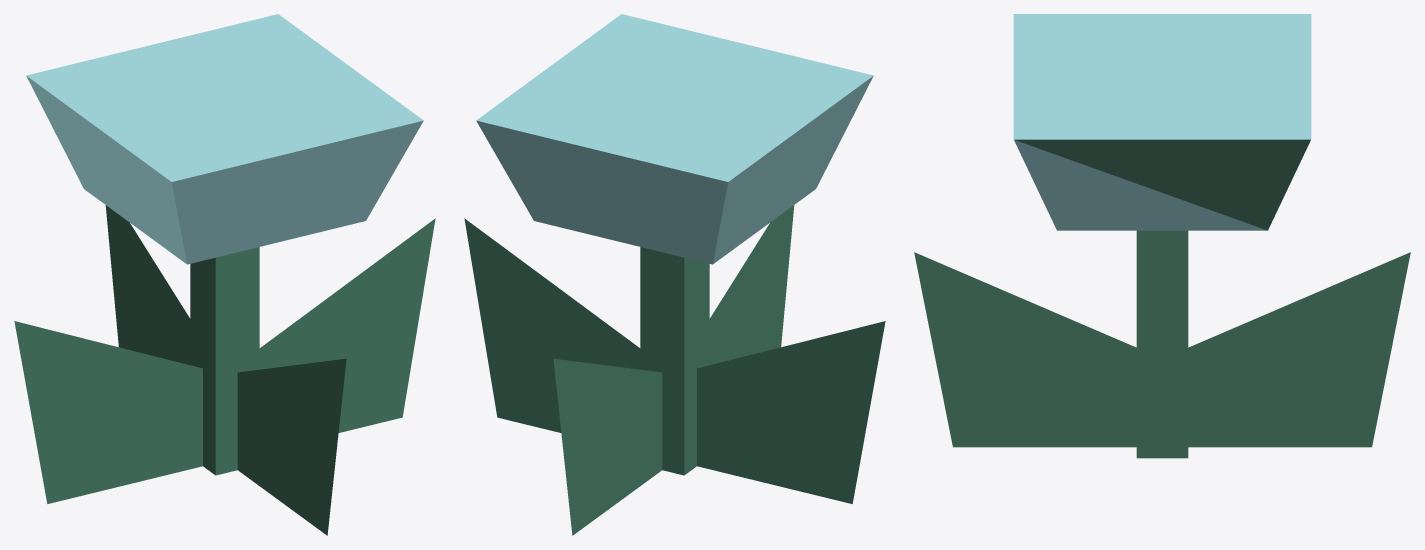
The model's file is naturePack_flat_009.obj.
3 views of the same model, side by side, from view 1: azimuth 30°, elevation 25°; view 2: azimuth 150°, elevation 25°; view 3: azimuth 270°, elevation 25° (orthographic). The views are drawn at different scales.
Parts seen in each view (by area): view 1: Mesh3_Flower_Yellow_Model.001, Mesh1_Flower_Yellow_Model.001, Mesh4_Flower_Yellow_Model.001, Mesh5_Flower_Yellow_Model.001, Mesh2_Flower_Yellow_Model.001; view 2: Mesh3_Flower_Yellow_Model.001, Mesh1_Flower_Yellow_Model.001, Mesh4_Flower_Yellow_Model.001, Mesh2_Flower_Yellow_Model.001, Mesh5_Flower_Yellow_Model.001; view 3: Mesh3_Flower_Yellow_Model.001, Mesh2_Flower_Yellow_Model.001, Mesh5_Flower_Yellow_Model.001.
Boxes of the visible parts, x1,y1,x2,y2 form: Mesh3_Flower_Yellow_Model.001: (26, 14, 423, 475); Mesh1_Flower_Yellow_Model.001: (14, 321, 202, 503); Mesh4_Flower_Yellow_Model.001: (259, 218, 435, 432); Mesh5_Flower_Yellow_Model.001: (237, 358, 346, 535); Mesh2_Flower_Yellow_Model.001: (105, 205, 190, 364); Mesh3_Flower_Yellow_Model.001: (476, 14, 873, 475); Mesh1_Flower_Yellow_Model.001: (697, 321, 885, 503); Mesh4_Flower_Yellow_Model.001: (464, 218, 640, 432); Mesh2_Flower_Yellow_Model.001: (553, 358, 662, 535); Mesh5_Flower_Yellow_Model.001: (709, 205, 794, 364); Mesh3_Flower_Yellow_Model.001: (1013, 14, 1311, 458); Mesh2_Flower_Yellow_Model.001: (1188, 252, 1410, 447); Mesh5_Flower_Yellow_Model.001: (914, 252, 1136, 447).
Size of the model in its own units: 0.4859 by 0.4 by 0.4859.
